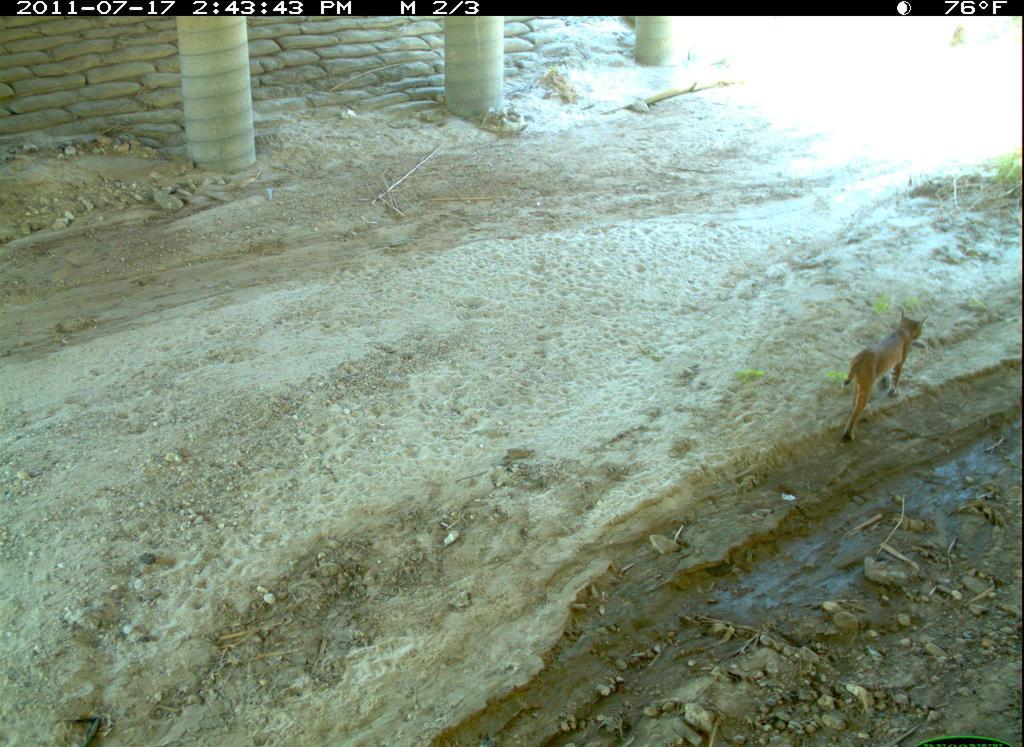bobcat: (834, 306, 953, 445)
